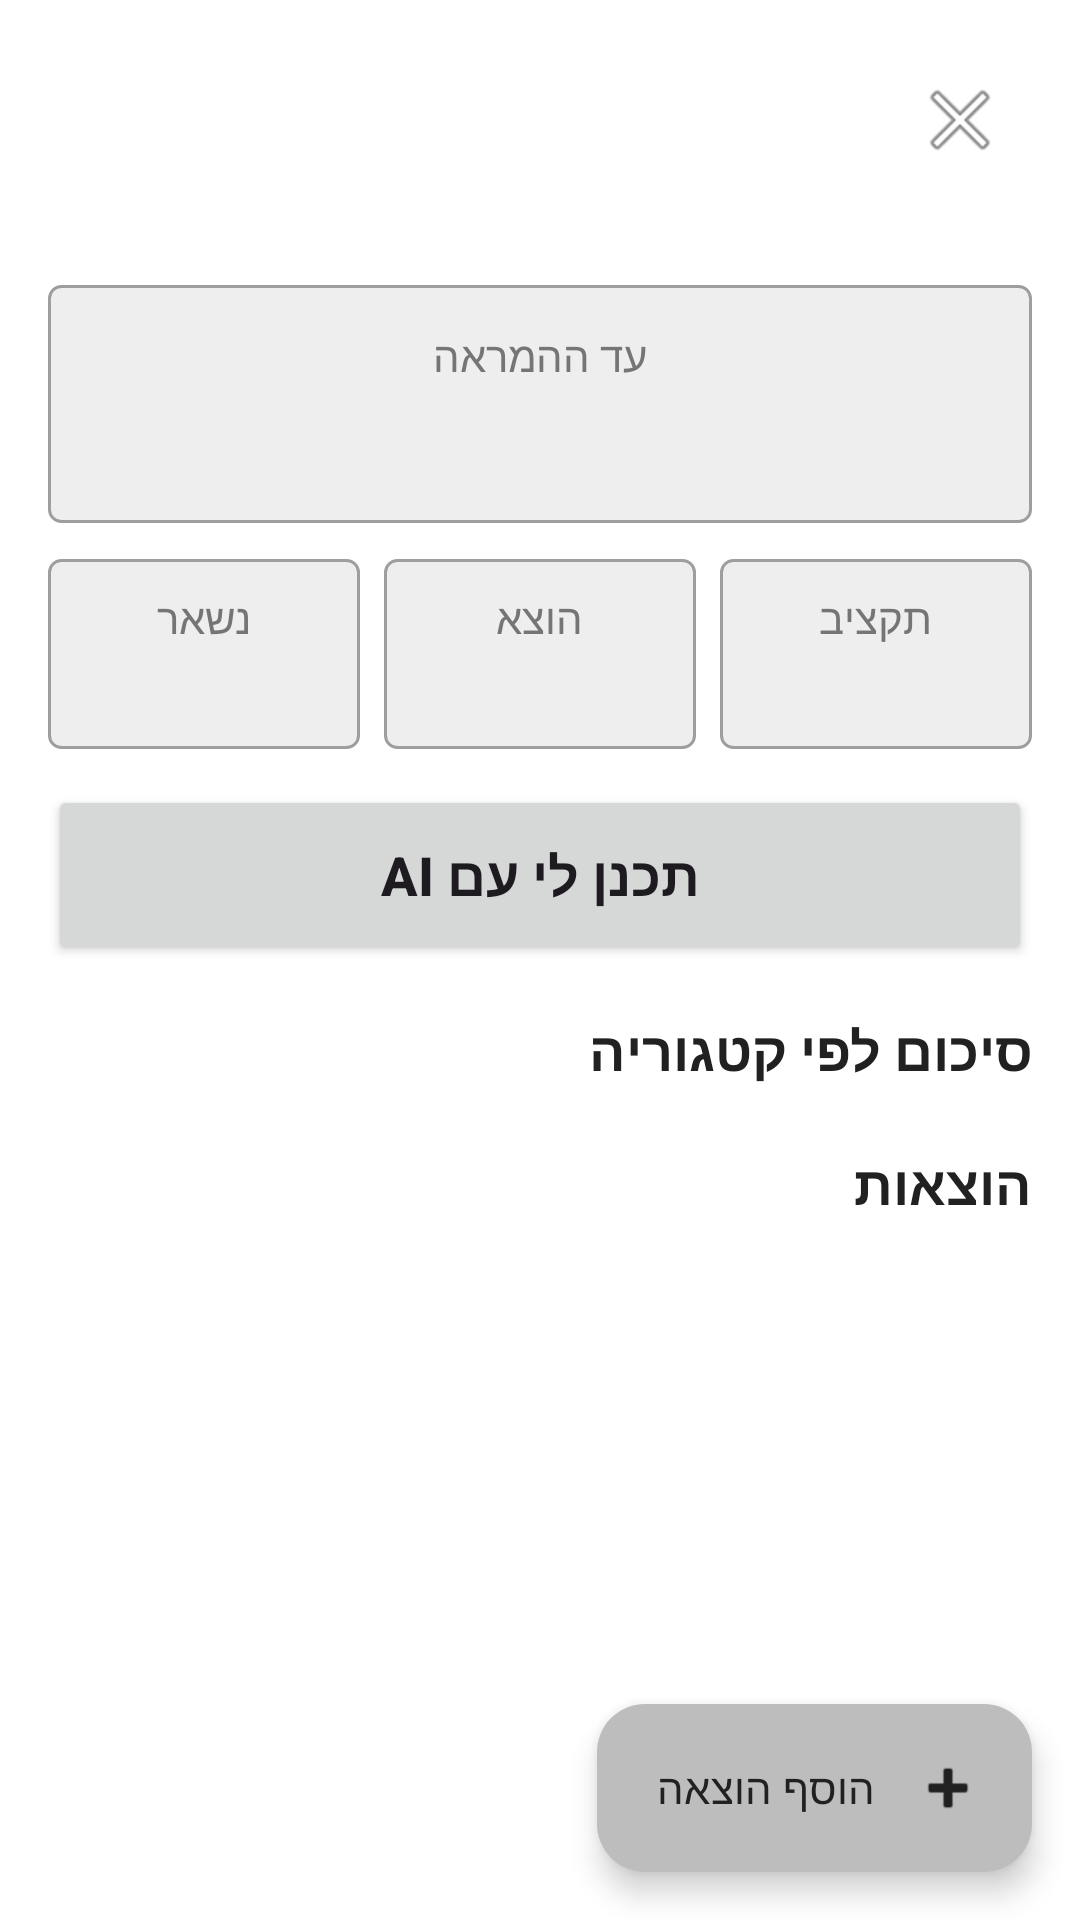

Locate icon controls on the screen. Image size 1080 x 1920, boxes as region(x1, y1, x2, y2).
סגור: region(930, 90, 990, 150)
